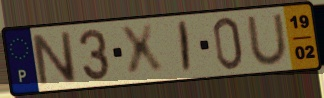0: (211, 15, 246, 72)
3: (77, 27, 112, 82)
I: (178, 19, 193, 76)
N: (28, 30, 80, 88)
U: (243, 11, 291, 67)
X: (116, 22, 167, 80)
